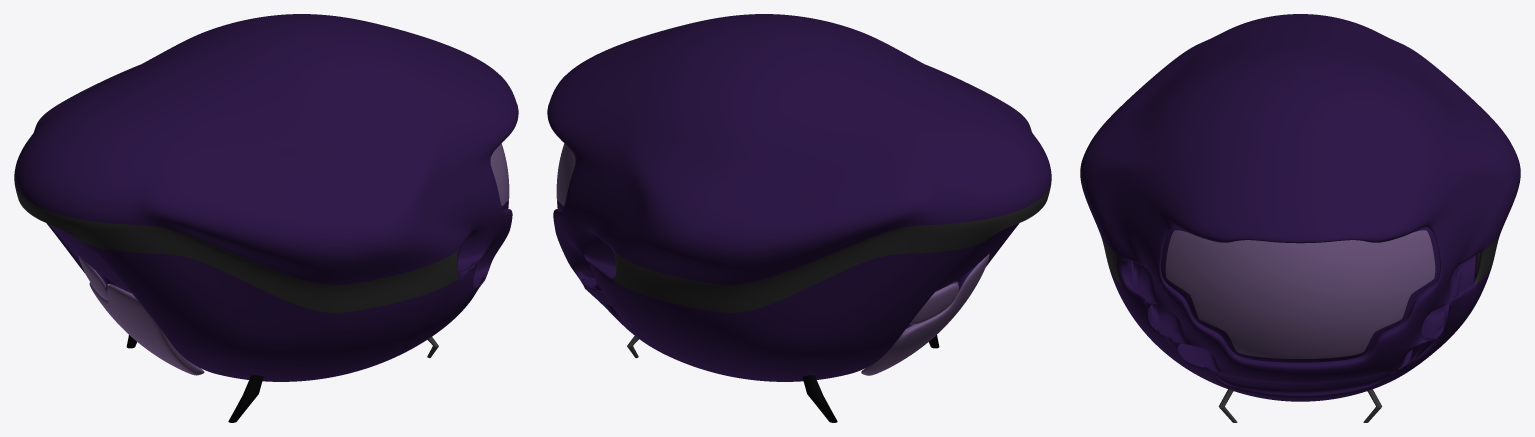
File: nave para juego 4COMPLETA.fbx
3 renders of one model, left to right at view 1: azimuth 30°, elevation 25°; view 2: azimuth 150°, elevation 25°; view 3: azimuth 270°, elevation 25°, orthographic. The views are drawn at different scales.
Parts seen in each view (by area): view 1: fuselaje nave, PUERTA, patas traceras; view 2: fuselaje nave, PUERTA, patas traceras; view 3: fuselaje nave, patas adelante.
Part boxes in pixels (box(x1,y1,x2,y2)): fuselaje nave: box(14, 14, 518, 381); PUERTA: box(49, 224, 204, 375); patas traceras: box(126, 335, 263, 422); fuselaje nave: box(547, 14, 1051, 381); PUERTA: box(861, 224, 1016, 375); patas traceras: box(802, 335, 939, 422); fuselaje nave: box(1080, 14, 1520, 401); patas adelante: box(1218, 389, 1382, 422).
Bounding box in the file's own units: 655 × 432 × 559.
